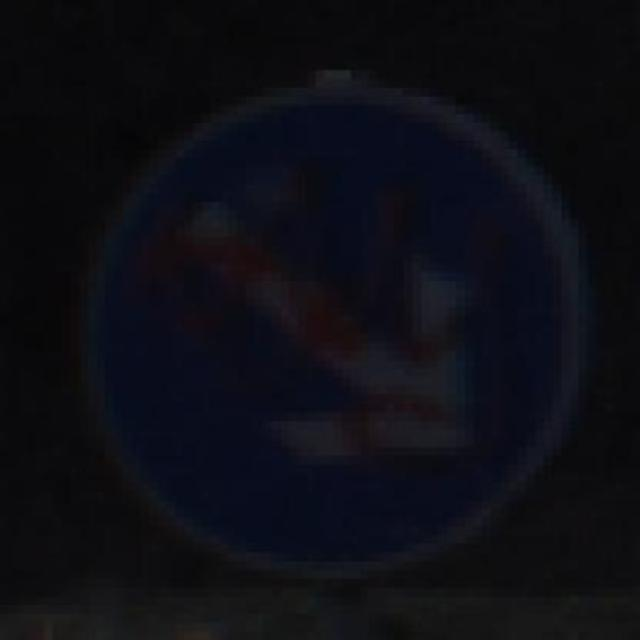Keep-Right: (52, 44, 605, 605)
